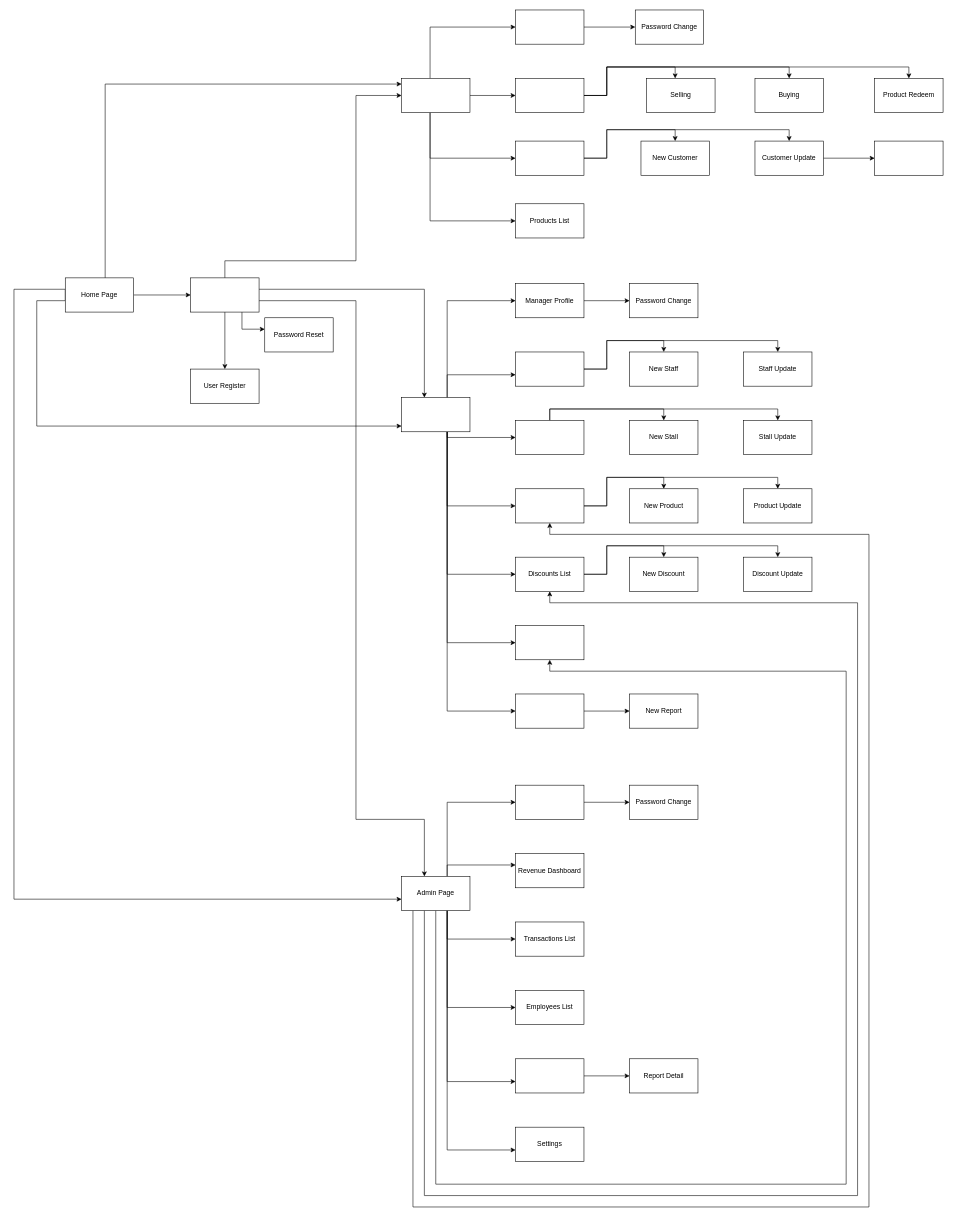
This 953x1222 diagram has some shape labels left out. The centre of each missing label's shape, as x and y in pixels:
Admin Profile: pixel 549 802
Customer Search: pixel 549 158
Customers List: pixel 549 642
Inventory: pixel 549 505
Manager Page: pixel 435 414
New Order: pixel 549 95
Personal Reports List: pixel 549 710
Point Update: pixel 908 158
Reports List: pixel 549 1075
Staff Page: pixel 435 95
Staff Profile: pixel 549 26
Staffs List: pixel 549 368
Stalls List: pixel 549 437
User Login: pixel 224 294
